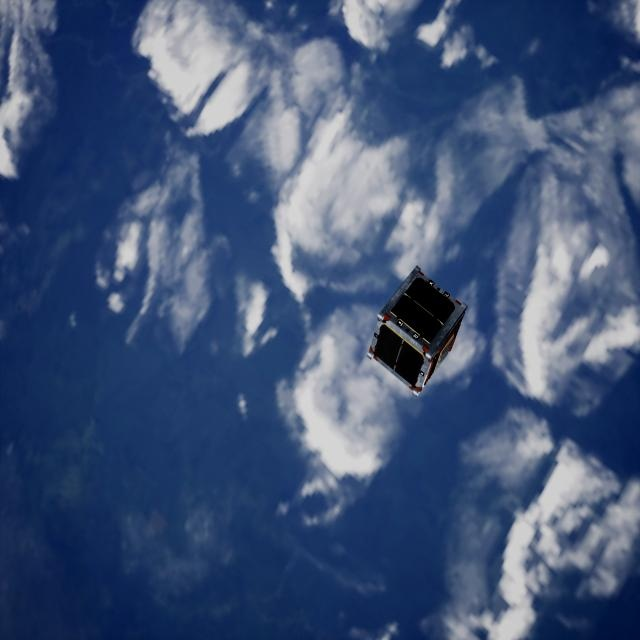satellite: (369, 264, 469, 391)
